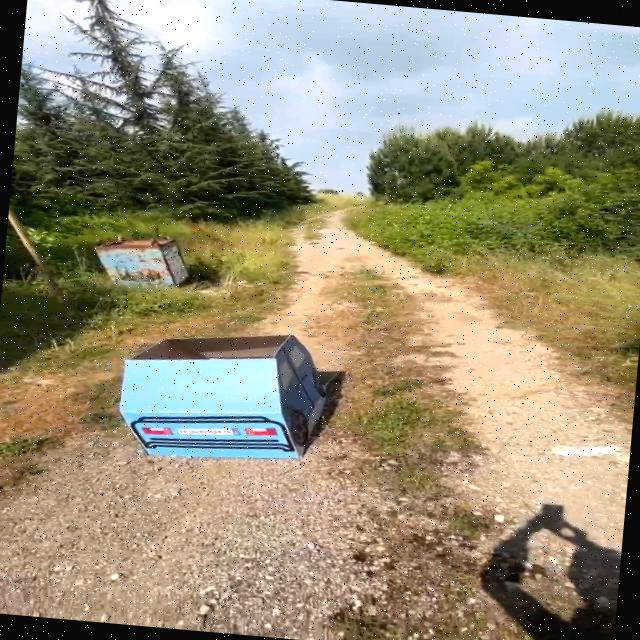blue_car: (99, 311, 351, 485)
